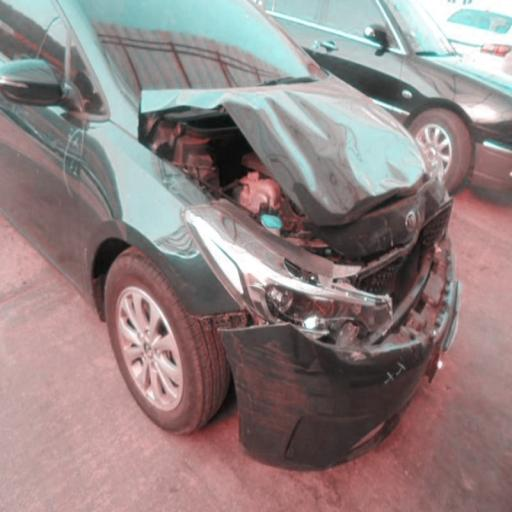broken: (134, 74, 404, 327)
dent: (58, 117, 140, 251), (138, 187, 218, 301)
